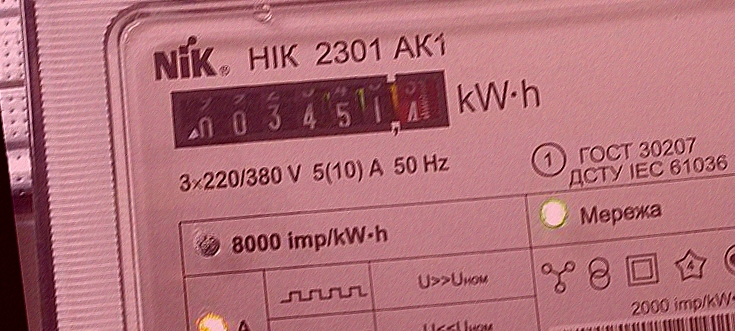0: (192, 110, 216, 140), (227, 106, 249, 136)
1: (366, 91, 386, 124)
3: (261, 99, 284, 132)
4: (296, 99, 320, 133), (399, 96, 422, 126)
5: (332, 96, 352, 129)
screen: (160, 51, 457, 168)
